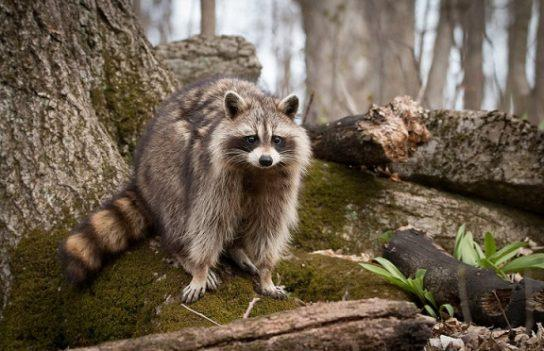raccoon: (57, 73, 315, 304)
